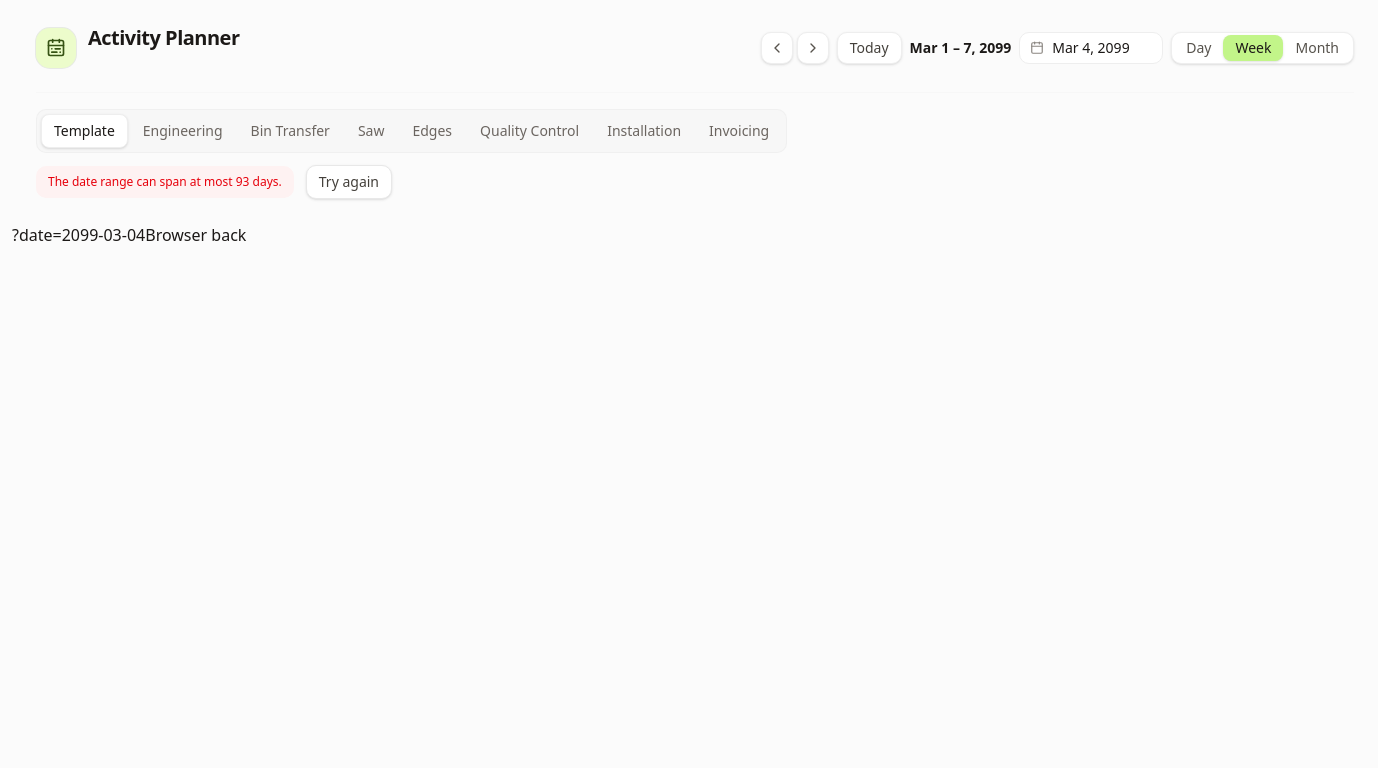
Test: ActivityPlannerPage › shows the server message and retries on request
The image size is (1378, 768).
Expected: the message reads "The date range can span at most 93 days.", [48,173,282,190]
Click the button "Try again" at coordinates (349, 182), box [306,165,392,199]
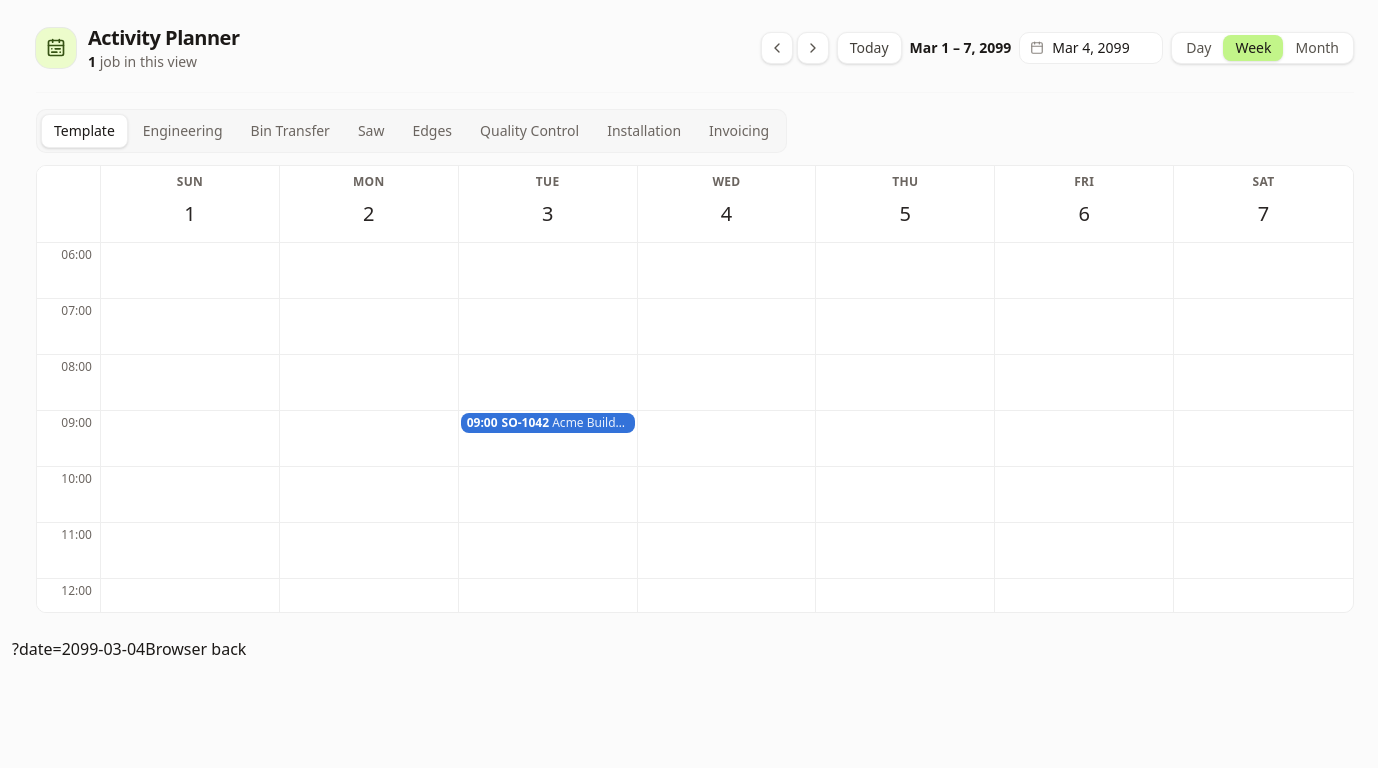
Expected: the text "SO-1042" is shown, [502,415,549,431]
